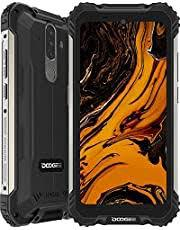Smartphone: (71, 5, 175, 223), (10, 3, 67, 216)
